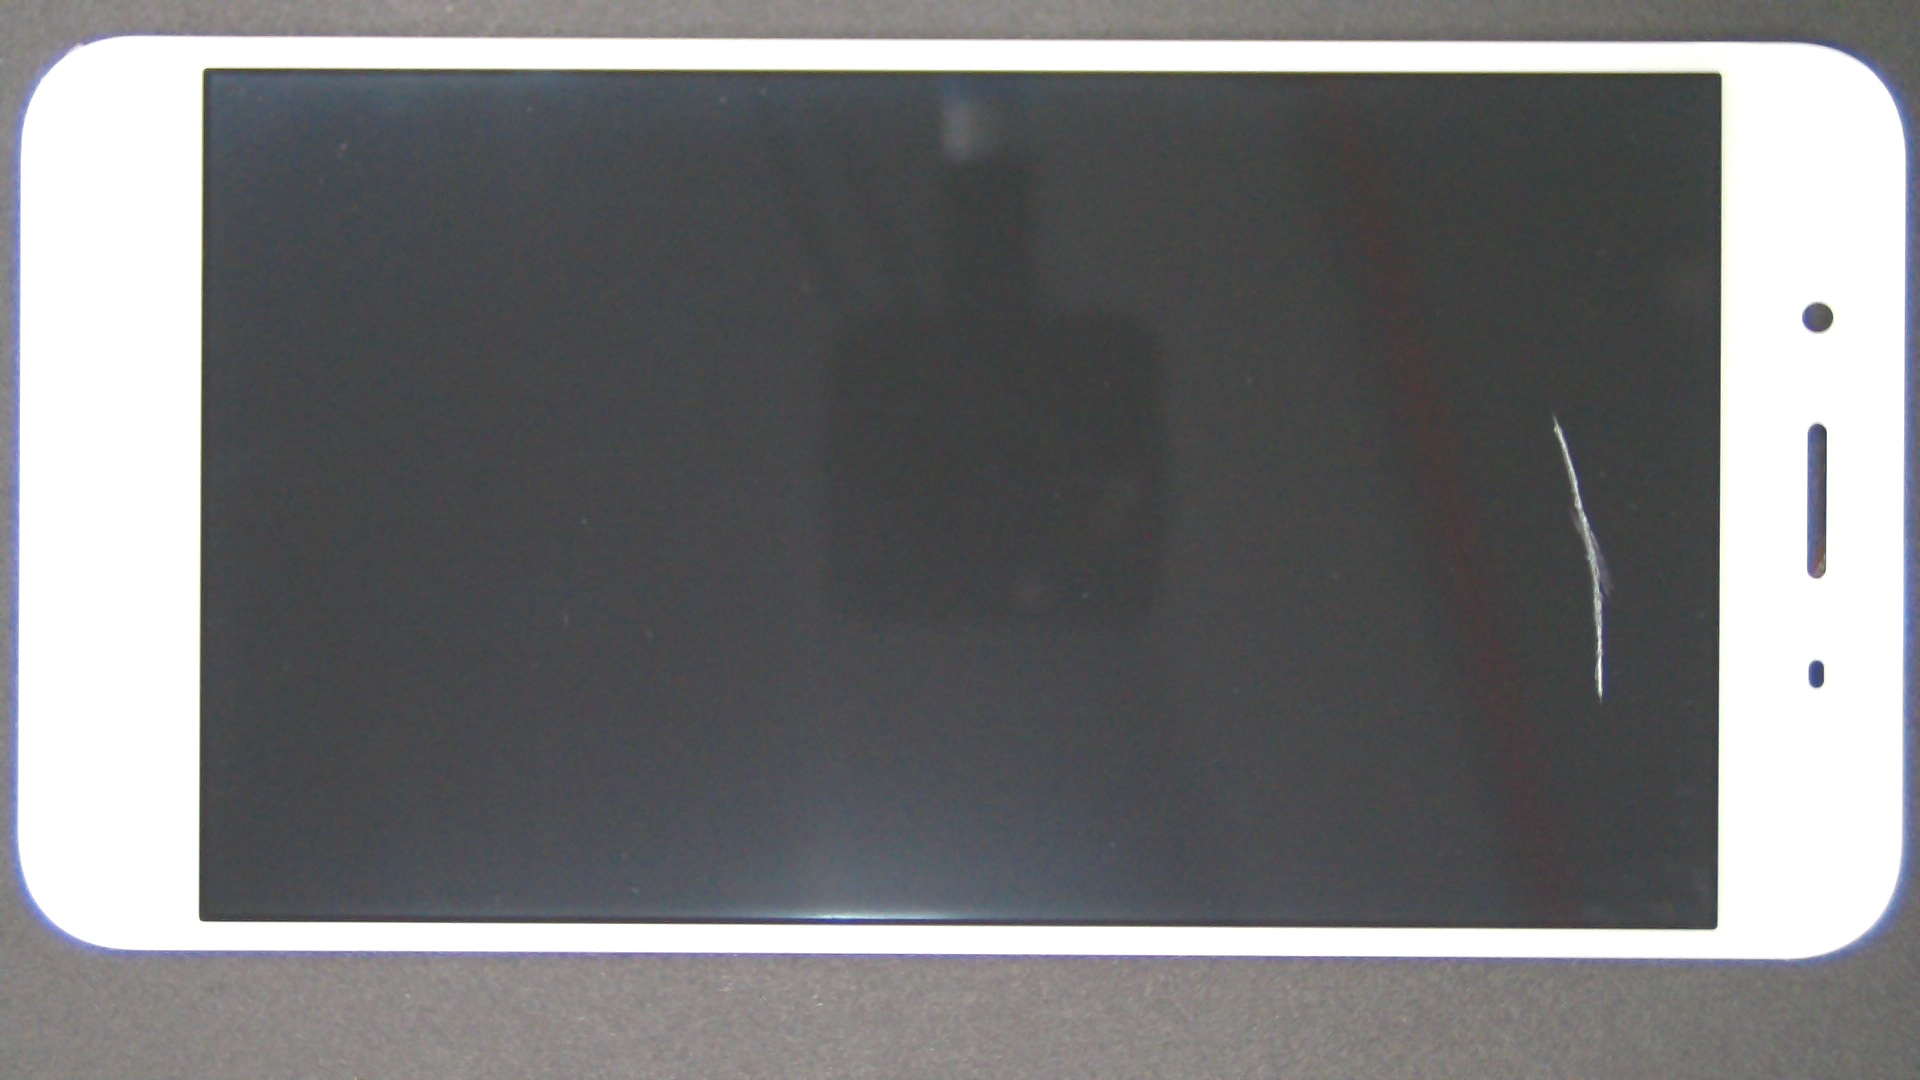oil: (777, 207, 1920, 622)
